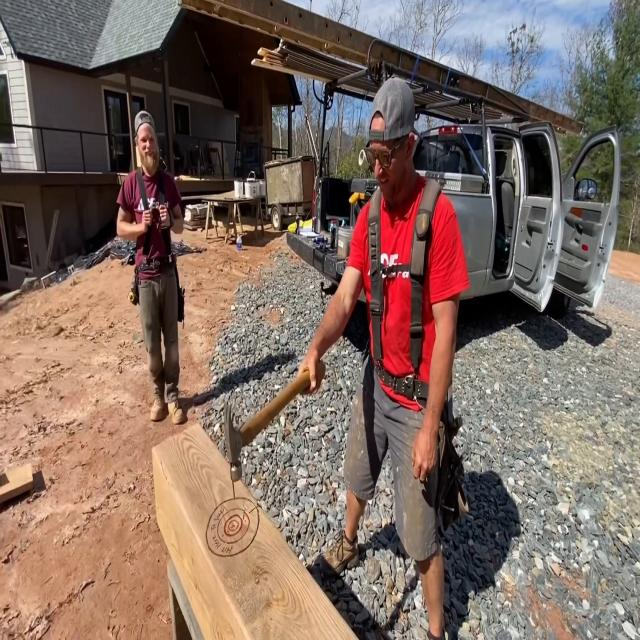hammer: (224, 370, 310, 482)
